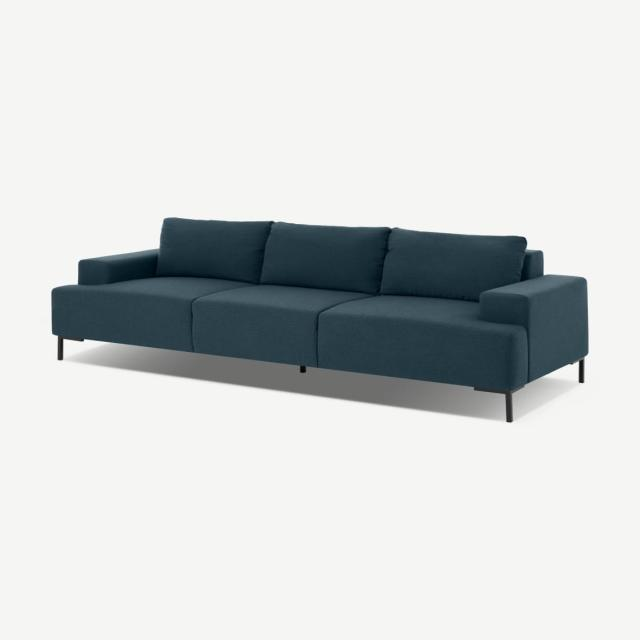back_cushion: (155, 217, 541, 301)
left_arm: (480, 275, 587, 381)
legs: (474, 385, 523, 423), (571, 358, 585, 384), (59, 338, 63, 355), (300, 366, 305, 373)
right_arm: (77, 249, 157, 285)
seat_cushion: (52, 277, 528, 390)
stallion-sofa: (0, 0, 639, 639)
